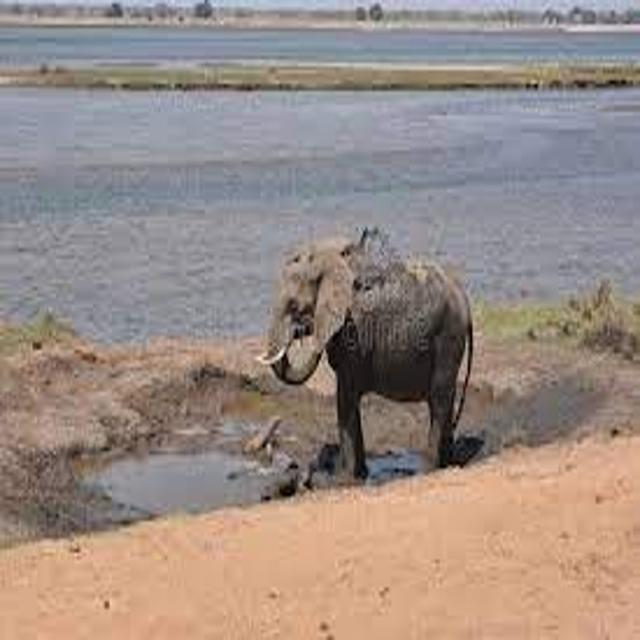elephant: (229, 203, 496, 508)
